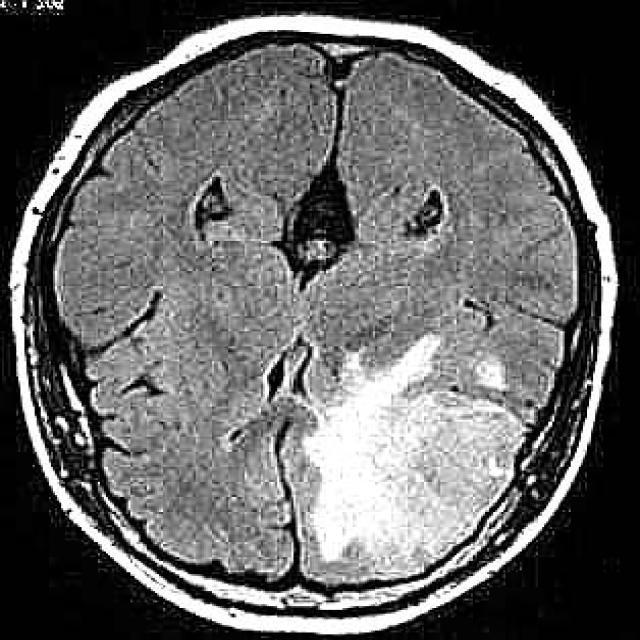brain tumor: (302, 337, 530, 574)
